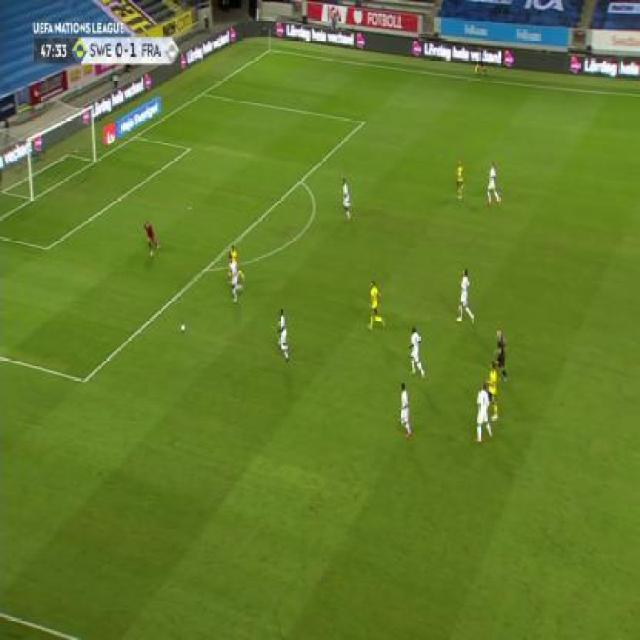ball: (180, 322, 186, 333)
player: (473, 380, 493, 446), (455, 266, 475, 325), (367, 279, 386, 333), (408, 325, 427, 378), (493, 327, 510, 381), (397, 382, 413, 439), (275, 307, 291, 364), (487, 360, 501, 422), (228, 256, 244, 302), (485, 161, 501, 207), (143, 218, 160, 255), (341, 177, 354, 220), (455, 158, 464, 200), (474, 48, 487, 77), (230, 245, 238, 264)
